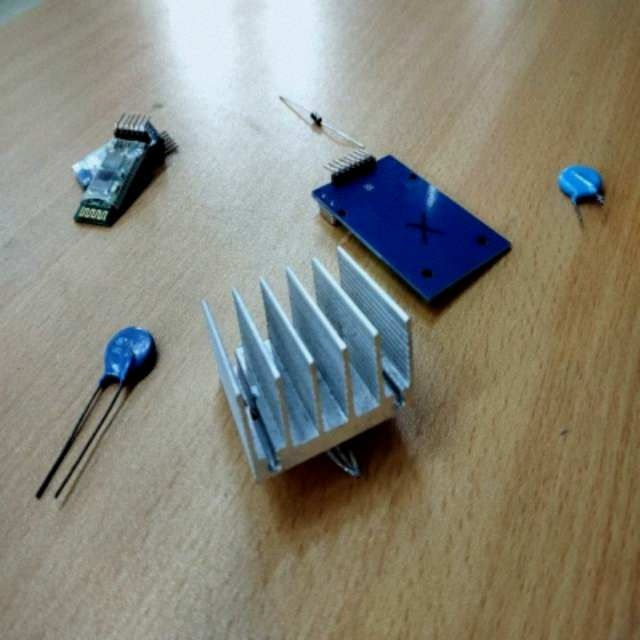capacitor: (90, 327, 158, 416), (560, 166, 606, 205)
